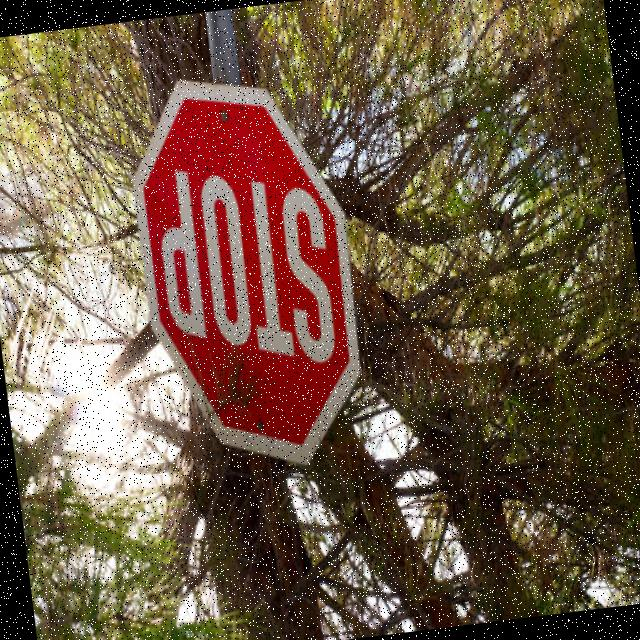stop: (100, 43, 381, 492)
